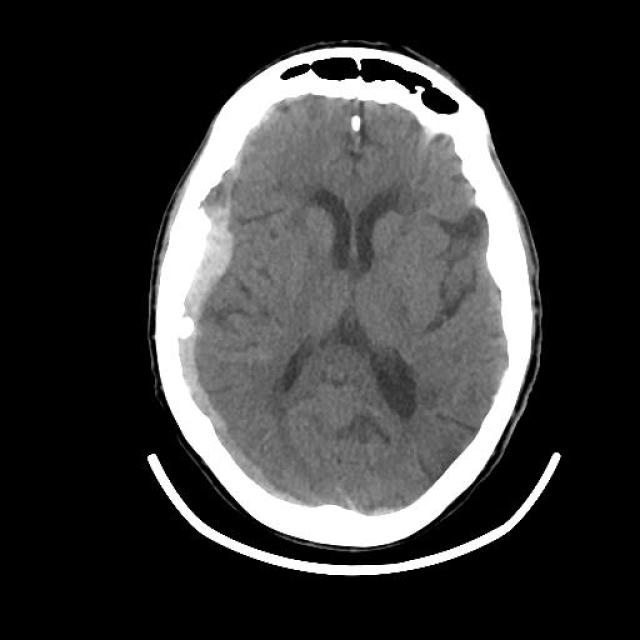Subdural: (143, 89, 295, 514)
